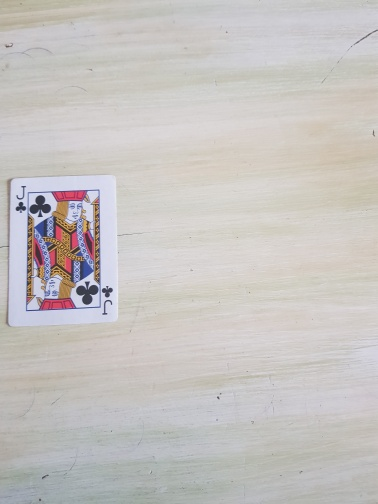jack: (6, 174, 119, 328)
